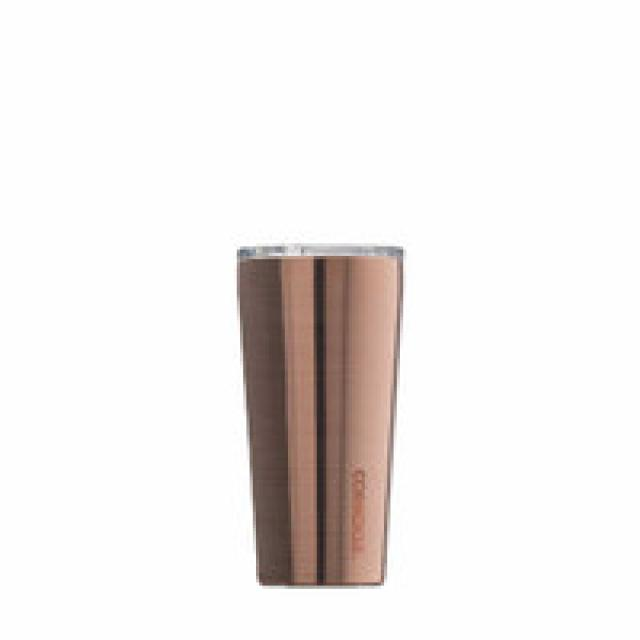bottle: (237, 243, 406, 586)
